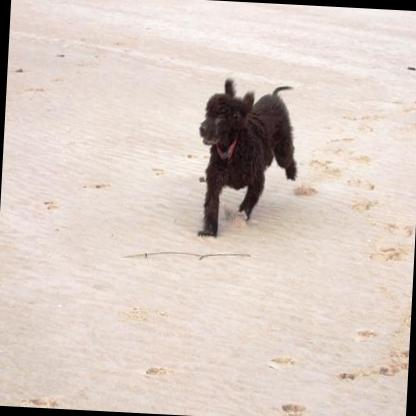Irish_water_spaniel: (193, 76, 300, 240)
